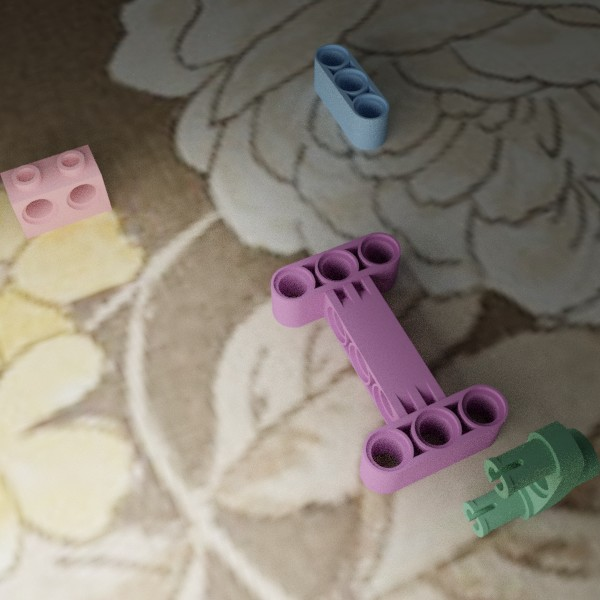lego: (270, 232, 508, 494), (462, 421, 600, 537), (0, 144, 112, 239), (314, 43, 389, 149)
